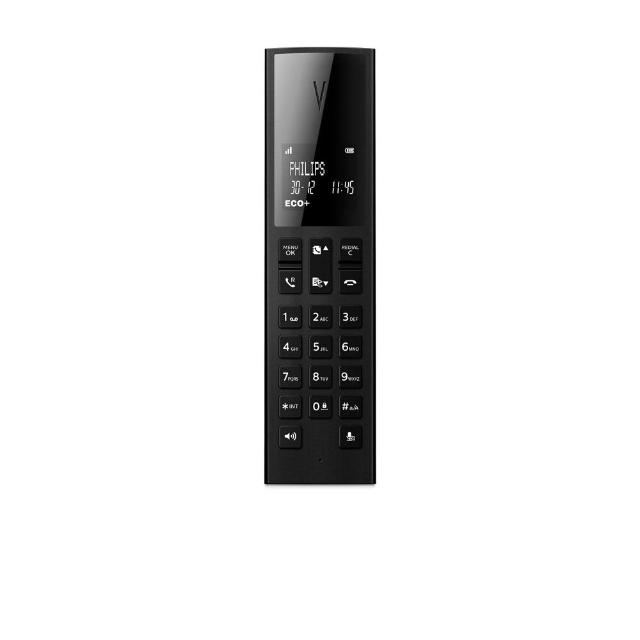Telephone-Set: (128, 3, 464, 510)
